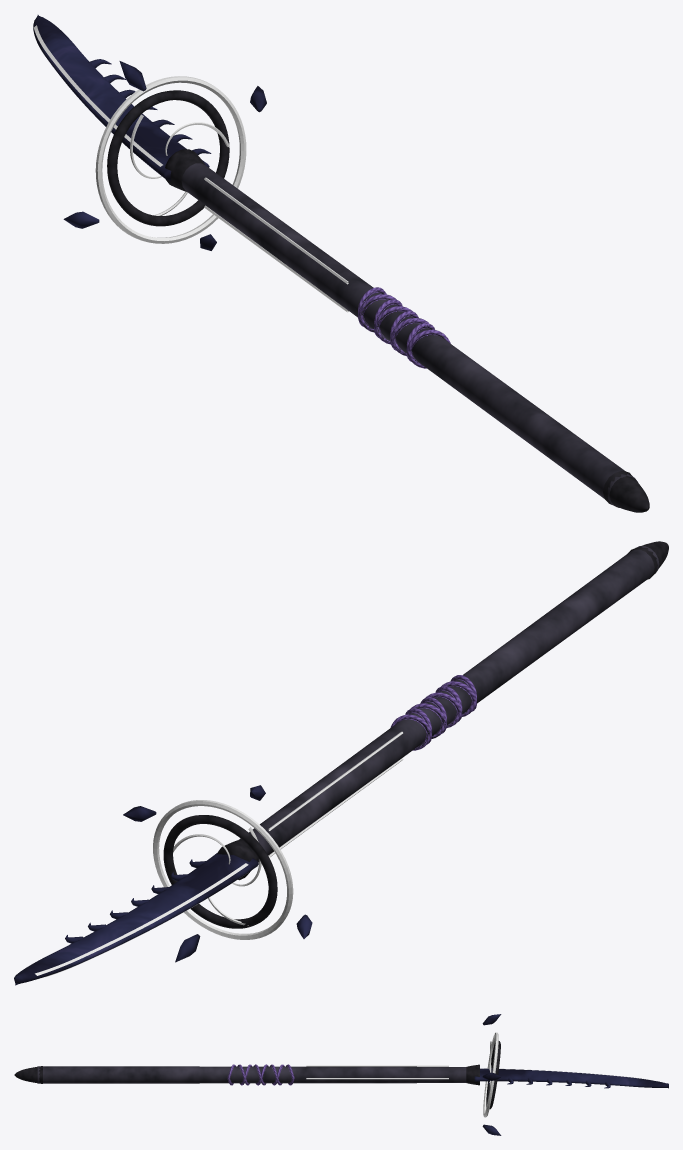
Rendered from Spear9.fbx.
3 renders of one model, top to bottom at view 1: azimuth 30°, elevation 25°; view 2: azimuth 150°, elevation 25°; view 3: azimuth 270°, elevation 25°, orthographic. The views are drawn at different scales.
Parts seen in each view (by area): view 1: Spear9_Body, Spear9_Glow_643cff; view 2: Spear9_Body, Spear9_Glow_643cff; view 3: Spear9_Body, Spear9_Glow_643cff.
Boxes of the visible parts, box(x1,y1,x2,y2) form: Spear9_Body: box(33, 15, 649, 512); Spear9_Glow_643cff: box(34, 25, 348, 312); Spear9_Body: box(14, 541, 668, 985); Spear9_Glow_643cff: box(35, 731, 403, 977); Spear9_Body: box(14, 1014, 668, 1135); Spear9_Glow_643cff: box(306, 1032, 649, 1117).
Bounding box in the file's own units: 1.73 × 1.74 × 10.12.
2 materials, 1 textured.
